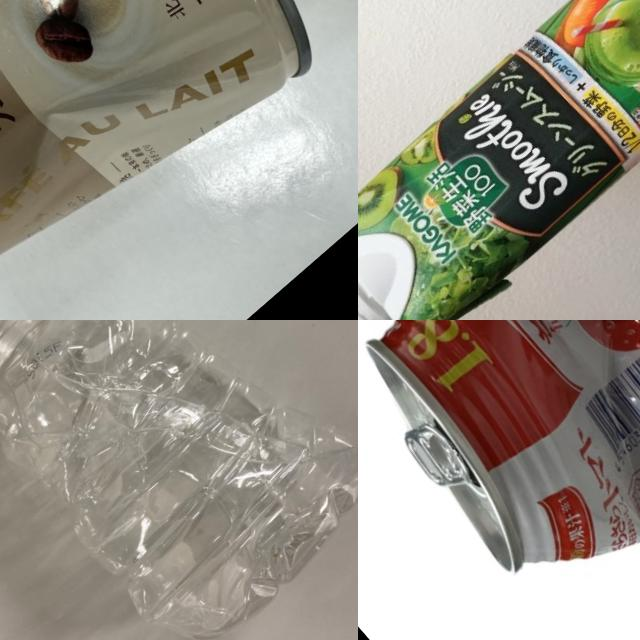Aluminium Foil: (358, 0, 640, 320)
Can: (0, 0, 325, 320), (358, 320, 640, 632)
Transparent Plastic Bottle: (0, 320, 358, 640)
